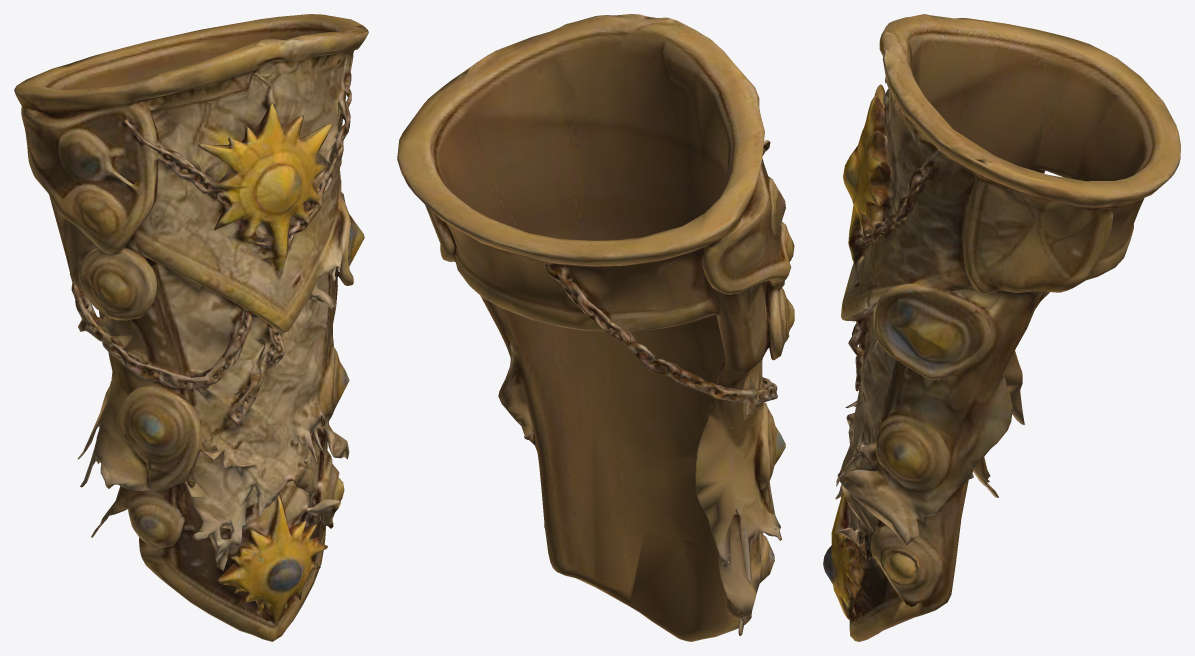
File: guardiao-bracal.glb
3 renders of one model, left to right at view 1: azimuth 30°, elevation 25°; view 2: azimuth 150°, elevation 25°; view 3: azimuth 270°, elevation 25°, orthographic. The views are drawn at different scales.
Visible parts, largest first — view 1: tripo_node_4670444a-c687-4d4d-a4a6-7877dc2e087a; view 2: tripo_node_4670444a-c687-4d4d-a4a6-7877dc2e087a; view 3: tripo_node_4670444a-c687-4d4d-a4a6-7877dc2e087a.
Part boxes in pixels (x1=…): tripo_node_4670444a-c687-4d4d-a4a6-7877dc2e087a: x1=14, y1=14, x2=368, y2=641; tripo_node_4670444a-c687-4d4d-a4a6-7877dc2e087a: x1=397, y1=14, x2=794, y2=641; tripo_node_4670444a-c687-4d4d-a4a6-7877dc2e087a: x1=823, y1=14, x2=1180, y2=641.
Size of the model in its own units: 0.5507 by 0.9744 by 0.5189.
Materials: 1 (1 with a texture image).
